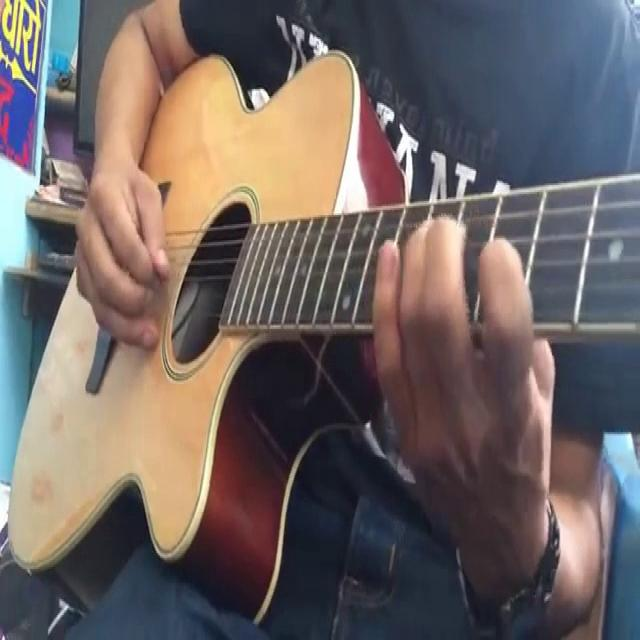Guitar: (7, 44, 639, 640)
